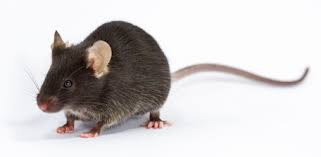mice: (30, 16, 311, 139)
